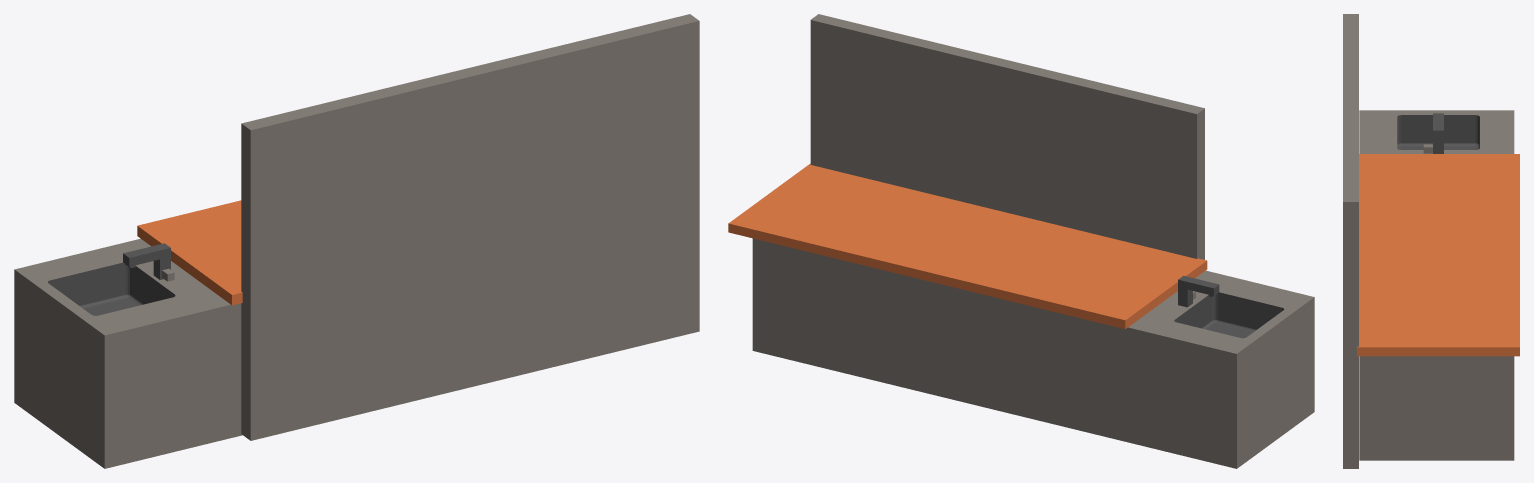
The model's file is Tablev2.glb.
3 views of the same model, side by side, from view 1: azimuth 30°, elevation 25°; view 2: azimuth 150°, elevation 25°; view 3: azimuth 270°, elevation 25° (orthographic). The views are drawn at different scales.
Visible parts, largest first — view 1: Table v.2; view 2: Table v.2; view 3: Table v.2.
Part boxes in pixels (left/top/right/bottom): Table v.2: left=14, top=14, right=699, bottom=468; Table v.2: left=728, top=14, right=1314, bottom=468; Table v.2: left=1343, top=14, right=1519, bottom=468.
Size of the model in its own units: 4.15 by 2.11 by 1.26.
